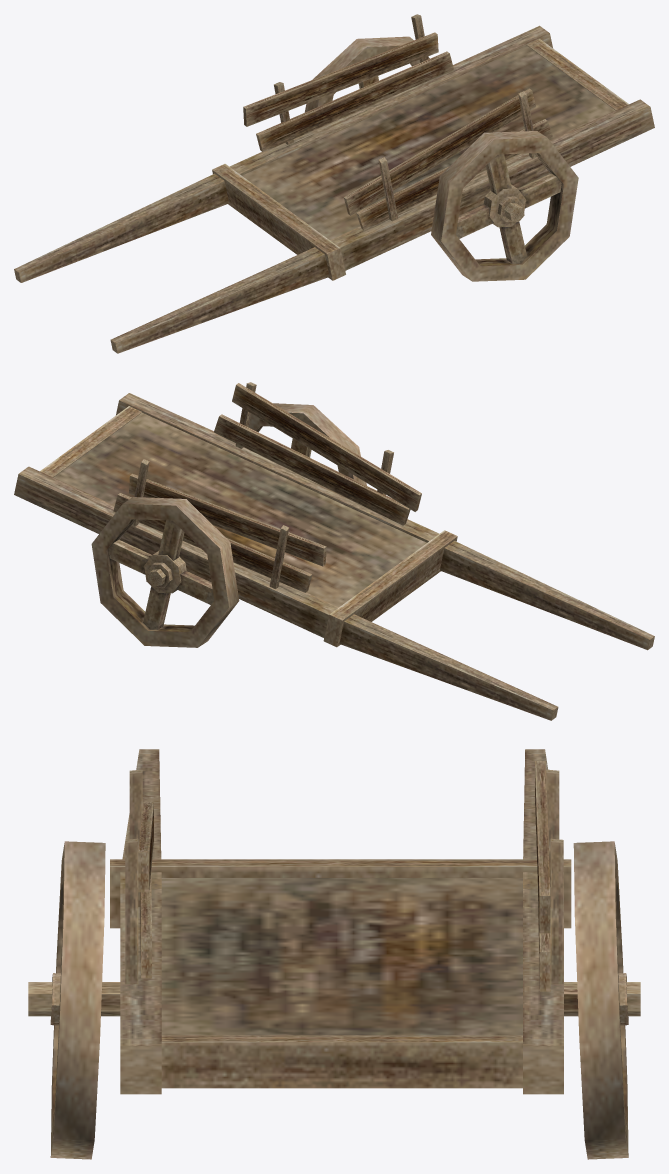
File: desert_cart02.fbx
The picture shows the model from 3 angles, top to bottom: view 1: azimuth 30°, elevation 25°; view 2: azimuth 150°, elevation 25°; view 3: azimuth 270°, elevation 25°; orthographic projection. The views are drawn at different scales.
Parts seen in each view (by area): view 1: Bip01; view 2: Bip01; view 3: Bip01.
Part boxes in pixels (left/top/right/bottom): Bip01: left=14, top=14, right=654, bottom=353; Bip01: left=14, top=382, right=654, bottom=720; Bip01: left=28, top=749, right=640, bottom=1159.
Size of the model in its own units: 4.77 by 1.44 by 2.36.
